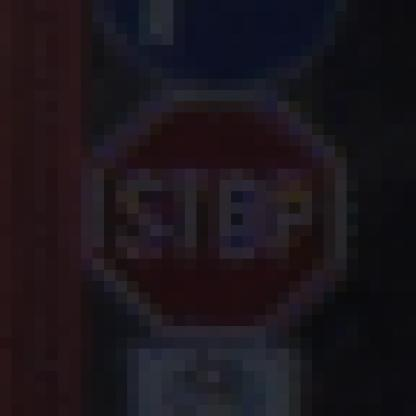stop: (81, 89, 362, 343)
